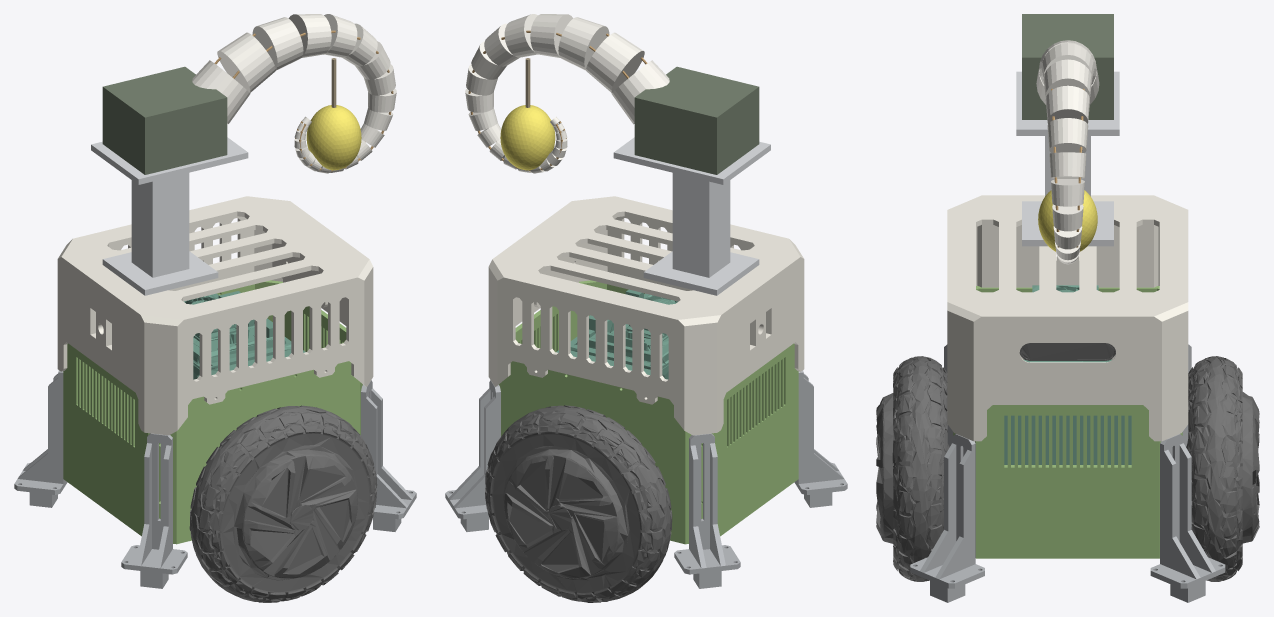
The model's file is via_c_v0_1_tay_mem.glb.
The picture shows the model from 3 angles, left to right: view 1: azimuth 30°, elevation 25°; view 2: azimuth 150°, elevation 25°; view 3: azimuth 270°, elevation 25°; orthographic projection. The views are drawn at different scales.
Visible parts, largest first — view 1: base_shell, base_wheel, base_chassis, tay_xoan, base_bracket, hop_keo_cap, riser, qua_chanh, base_board; view 2: base_shell, base_wheel, base_chassis, tay_xoan, base_bracket, hop_keo_cap, riser, qua_chanh, base_board; view 3: base_shell, base_wheel, base_chassis, base_bracket, tay_xoan, hop_keo_cap, base_board, riser, base_cam, qua_chanh.
Part boxes in pixels (box(x1,y1,x2,y2)): base_shell: box(57, 196, 373, 435); base_wheel: box(189, 405, 377, 602); base_chassis: box(63, 280, 362, 544); tay_xoan: box(192, 14, 396, 173); base_bracket: box(14, 370, 416, 588); hop_keo_cap: box(102, 66, 227, 174); riser: box(91, 137, 248, 295); qua_chanh: box(306, 105, 361, 170); base_board: box(184, 291, 305, 379); base_shell: box(488, 196, 804, 435); base_wheel: box(485, 405, 672, 602); base_chassis: box(499, 280, 798, 544); tay_xoan: box(465, 14, 669, 173); base_bracket: box(445, 370, 847, 588); hop_keo_cap: box(634, 66, 759, 174); riser: box(613, 137, 770, 295); qua_chanh: box(500, 105, 555, 170); base_board: box(556, 289, 677, 379); base_shell: box(947, 195, 1188, 441); base_wheel: box(876, 356, 1259, 581); base_chassis: box(953, 286, 1182, 558); base_bracket: box(910, 344, 1225, 602); tay_xoan: box(1036, 40, 1099, 264); hop_keo_cap: box(1022, 14, 1113, 119); base_board: box(1004, 285, 1131, 464); riser: box(1016, 71, 1119, 246); base_cam: box(1019, 343, 1115, 360); qua_chanh: box(1038, 190, 1097, 251).
Size of the model in its own units: 0.3556 by 0.5352 by 0.3342.
